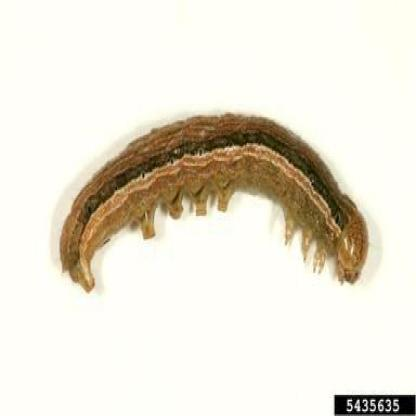armyworm: (57, 102, 371, 296)
